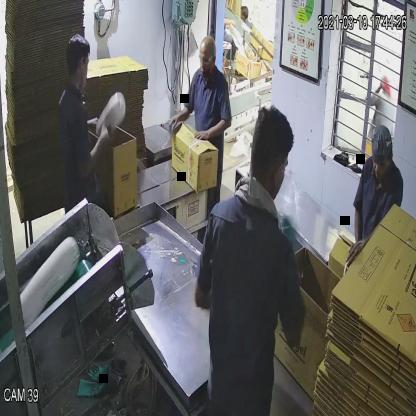no_glove: (64, 121, 118, 176), (195, 117, 236, 143), (162, 97, 192, 131)
